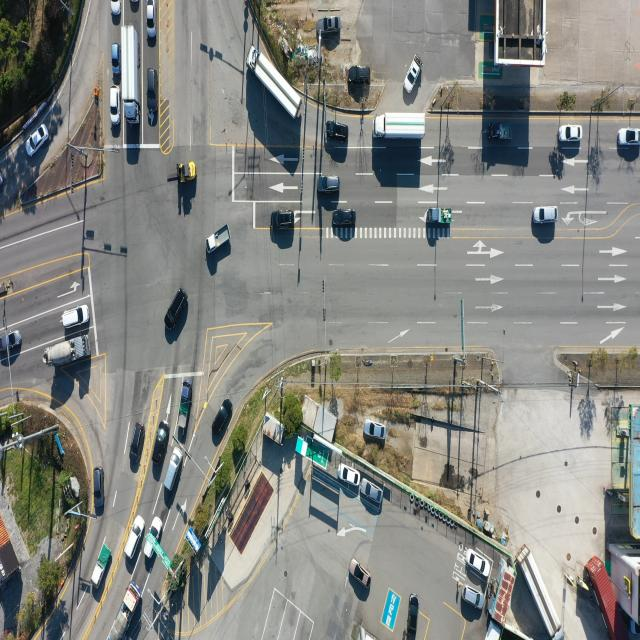car: (162, 447, 182, 494), (126, 517, 146, 562), (166, 290, 188, 330), (144, 516, 162, 562), (61, 304, 89, 330), (24, 125, 46, 158), (130, 422, 144, 470), (154, 420, 170, 462), (469, 549, 492, 578), (349, 559, 372, 588), (212, 403, 230, 438), (461, 584, 484, 610), (406, 58, 422, 93), (362, 480, 384, 505), (0, 331, 22, 354), (94, 466, 105, 511), (339, 464, 361, 486), (272, 211, 296, 230), (533, 206, 558, 224), (363, 420, 385, 440), (409, 594, 420, 634), (324, 120, 347, 139), (354, 60, 376, 79), (348, 65, 370, 84), (560, 126, 583, 143), (316, 176, 339, 193), (147, 68, 157, 104), (619, 130, 640, 147), (110, 87, 119, 125), (322, 16, 341, 34), (146, 0, 155, 37), (110, 0, 122, 18), (112, 43, 119, 72)
medium_truck: (246, 44, 305, 122), (521, 545, 566, 637), (42, 333, 90, 370), (125, 24, 142, 124), (114, 583, 143, 640), (374, 115, 429, 142)
small_truck: (91, 543, 112, 590), (178, 375, 192, 440), (208, 224, 231, 252), (425, 208, 452, 225), (488, 125, 512, 143), (334, 208, 357, 226)
